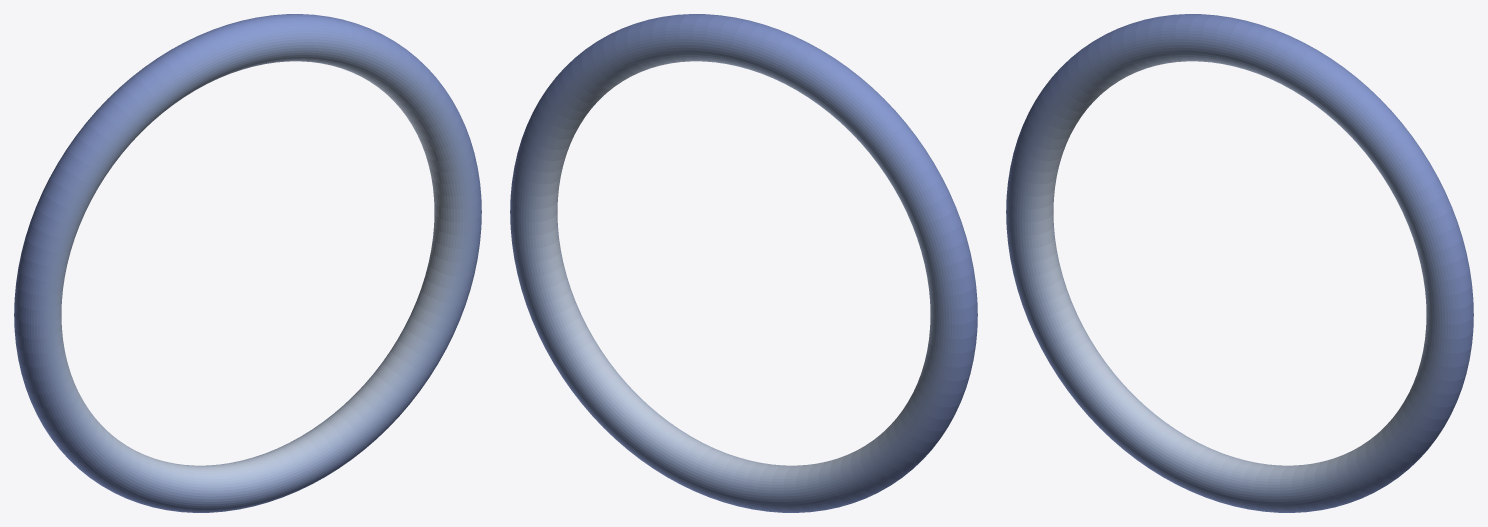
3 views of the same model, side by side, from view 1: azimuth 30°, elevation 25°; view 2: azimuth 150°, elevation 25°; view 3: azimuth 330°, elevation 25° (orthographic).
Parts seen in each view (by area): view 1: world; view 2: world; view 3: world.
Part boxes in pixels (x1,y1,x2,y2): world: (14,14,481,512); world: (510,14,977,512); world: (1006,14,1473,512).
Bounding box in the file's own units: 31.47 × 31.47 × 2.79.
